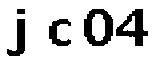0: (80, 2, 114, 49)
4: (117, 5, 151, 47)
c: (43, 13, 73, 48)
j: (4, 2, 36, 60)
